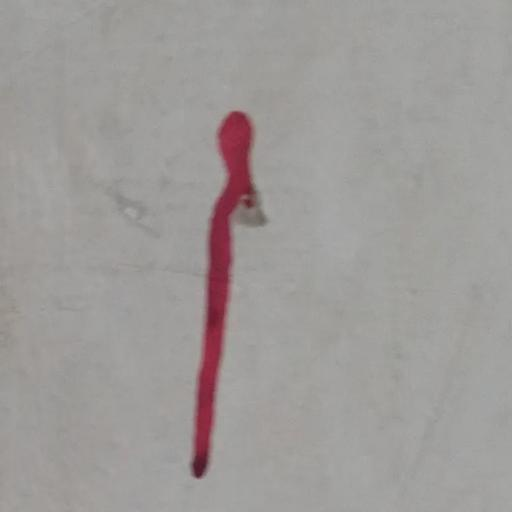stain: (144, 91, 264, 496), (373, 254, 512, 511)
